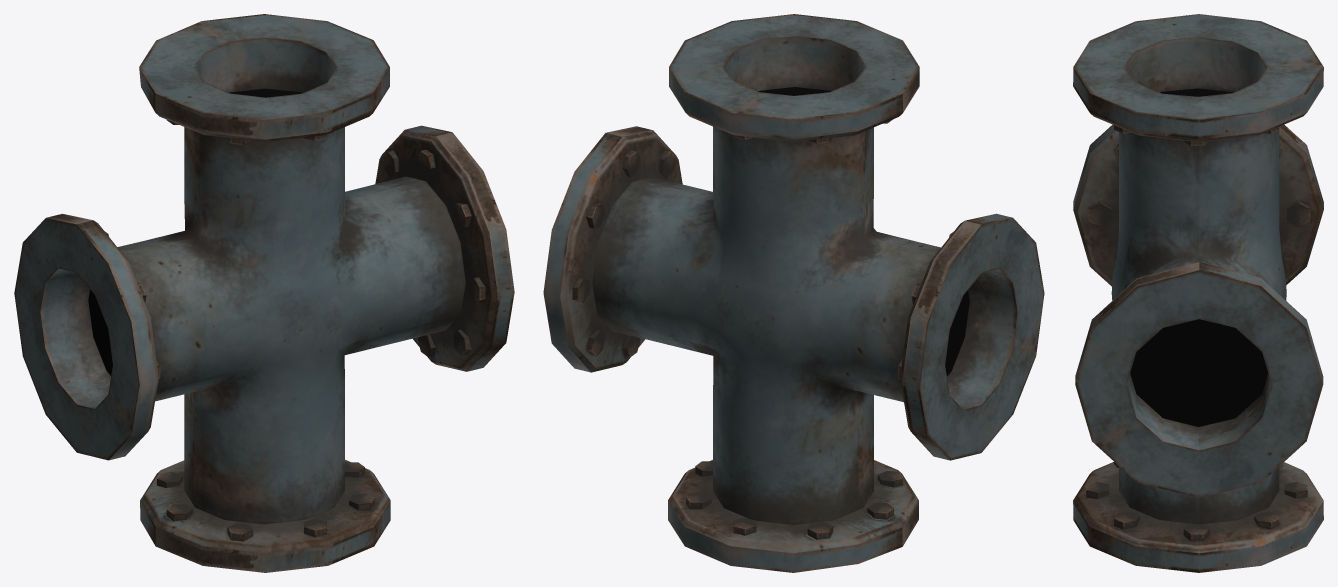
The model's file is pipe_pipe07.fbx.
The picture shows the model from 3 angles, left to right: view 1: azimuth 30°, elevation 25°; view 2: azimuth 150°, elevation 25°; view 3: azimuth 270°, elevation 25°; orthographic projection.
Visible parts, largest first — view 1: modular_industrial_pipes_01_group02__modular_industrial_pipe; view 2: modular_industrial_pipes_01_group02__modular_industrial_pipe; view 3: modular_industrial_pipes_01_group02__modular_industrial_pipe.
Part boxes in pixels (x1,y1,x2,y2): modular_industrial_pipes_01_group02__modular_industrial_pipe: (14,14,514,572); modular_industrial_pipes_01_group02__modular_industrial_pipe: (543,14,1044,572); modular_industrial_pipes_01_group02__modular_industrial_pipe: (1073,14,1323,572).
Size of the model in its own units: 0.3568 by 0.4111 by 0.2064.
